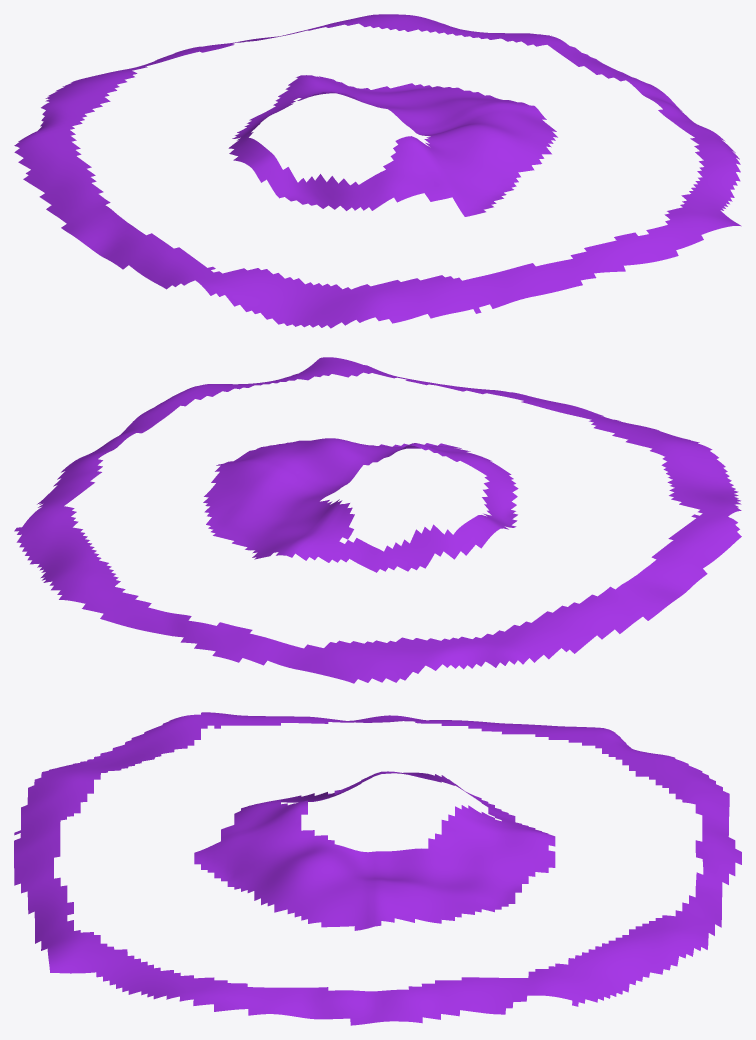
Rendered from treeline.glb.
The picture shows the model from 3 angles, top to bottom: view 1: azimuth 30°, elevation 25°; view 2: azimuth 150°, elevation 25°; view 3: azimuth 270°, elevation 25°; orthographic projection. The views are drawn at different scales.
Parts seen in each view (by area): view 1: Treeline; view 2: Treeline; view 3: Treeline.
Boxes of the visible parts, x1,y1,x2,y2 form: Treeline: (14,14,741,328); Treeline: (14,357,741,683); Treeline: (14,712,741,1025).
Bounding box in the file's own units: 29.02 × 3 × 29.14.
